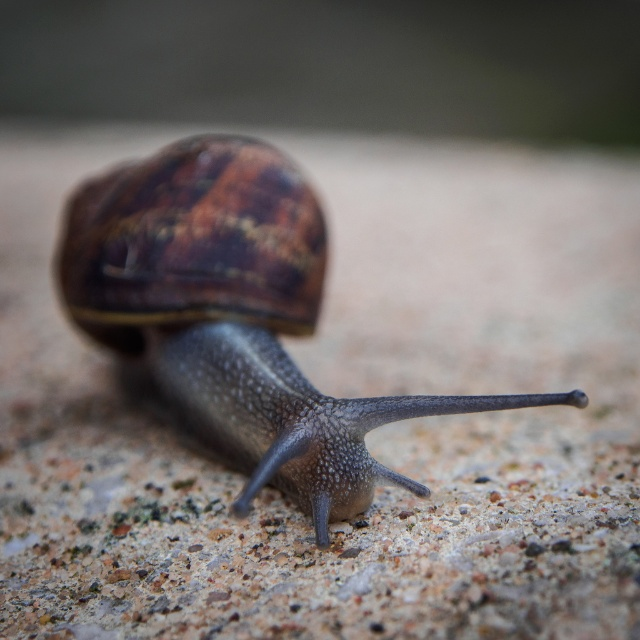Snail: (48, 130, 592, 550)
